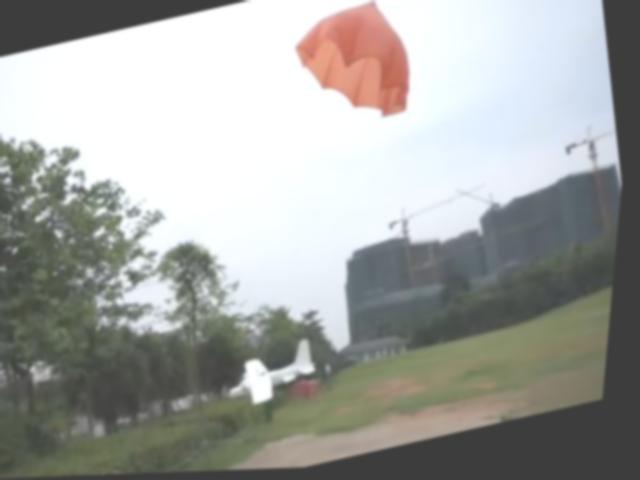uav: (223, 334, 334, 414)
